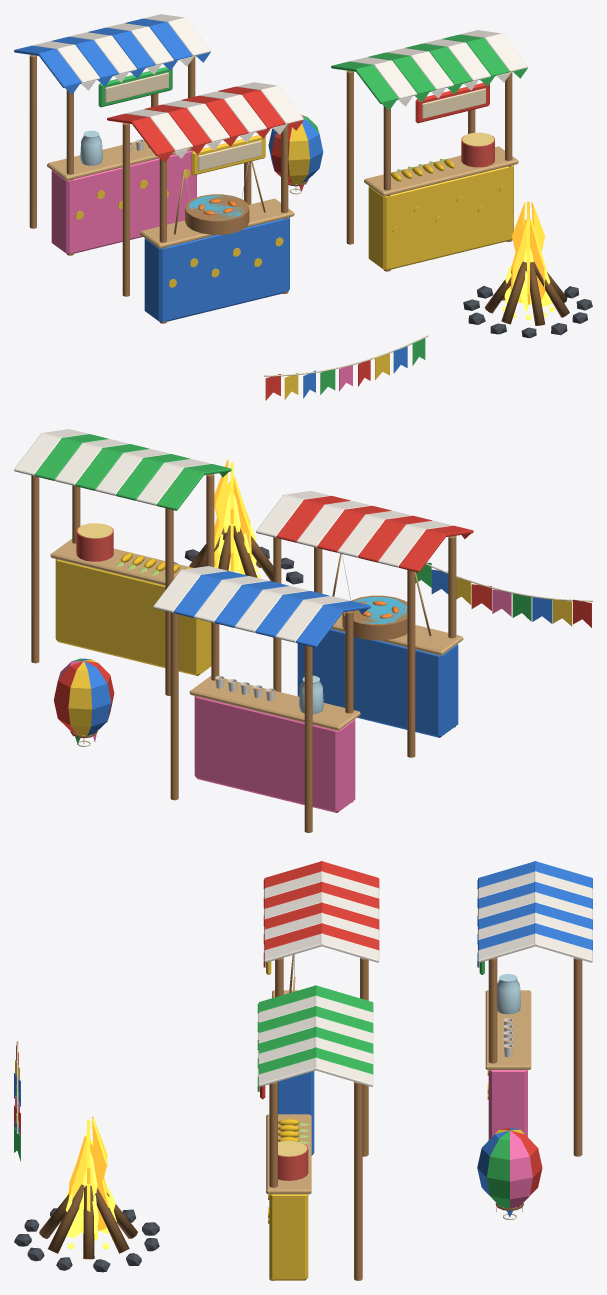
The model's file is junina.glb.
3 views of the same model, one above another, from view 1: azimuth 30°, elevation 25°; view 2: azimuth 150°, elevation 25°; view 3: azimuth 270°, elevation 25° (orthographic). The views are drawn at different scales.
Visible parts, largest first — view 1: barraca-pescaria, barraca-milho, barraca-suco, fogueira, bandeirinhas, fogo, balao; view 2: barraca-suco, barraca-milho, barraca-pescaria, bandeirinhas, balao, fogo, fogueira; view 3: barraca-milho, barraca-suco, barraca-pescaria, fogueira, balao, fogo, bandeirinhas.
Part boxes in pixels (x1,y1,x2,y2): barraca-pescaria: (107,82,303,323); barraca-milho: (331,30,527,271); barraca-suco: (14,14,210,255); fogueira: (463,261,592,338); bandeirinhas: (264,335,428,400); fogo: (502,201,554,320); balao: (268,115,323,194); barraca-suco: (153,566,370,832); barraca-milho: (14,429,231,695); barraca-pescaria: (256,491,473,757); bandeirinhas: (415,562,592,627); balao: (54,658,114,746); fogo: (214,459,260,578); fogueira: (173,525,303,584); barraca-milho: (257,985,373,1280); barraca-suco: (477,861,592,1156); barraca-pescaria: (263,861,379,1156); fogueira: (14,1184,159,1272); balao: (477,1128,542,1220); fogo: (64,1116,116,1249); bandeirinhas: (14,1041,20,1161).
Bounding box in the file's own units: 4.5 × 2.22 × 5.32.
